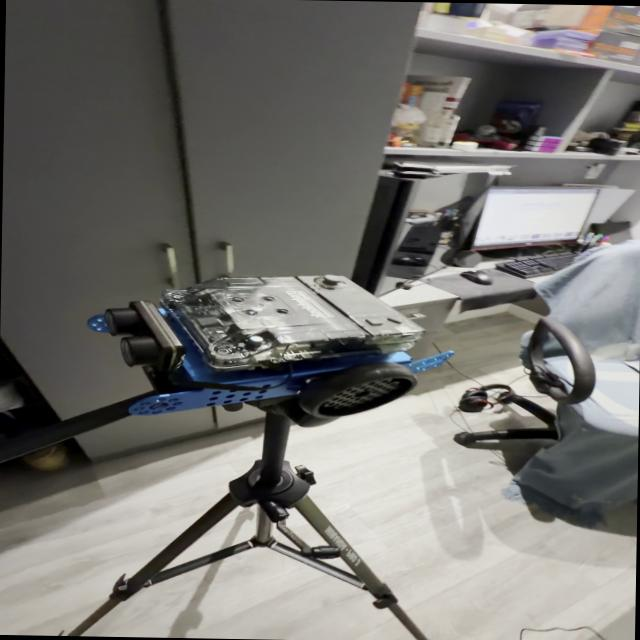mbot-detection: (76, 260, 462, 428)
